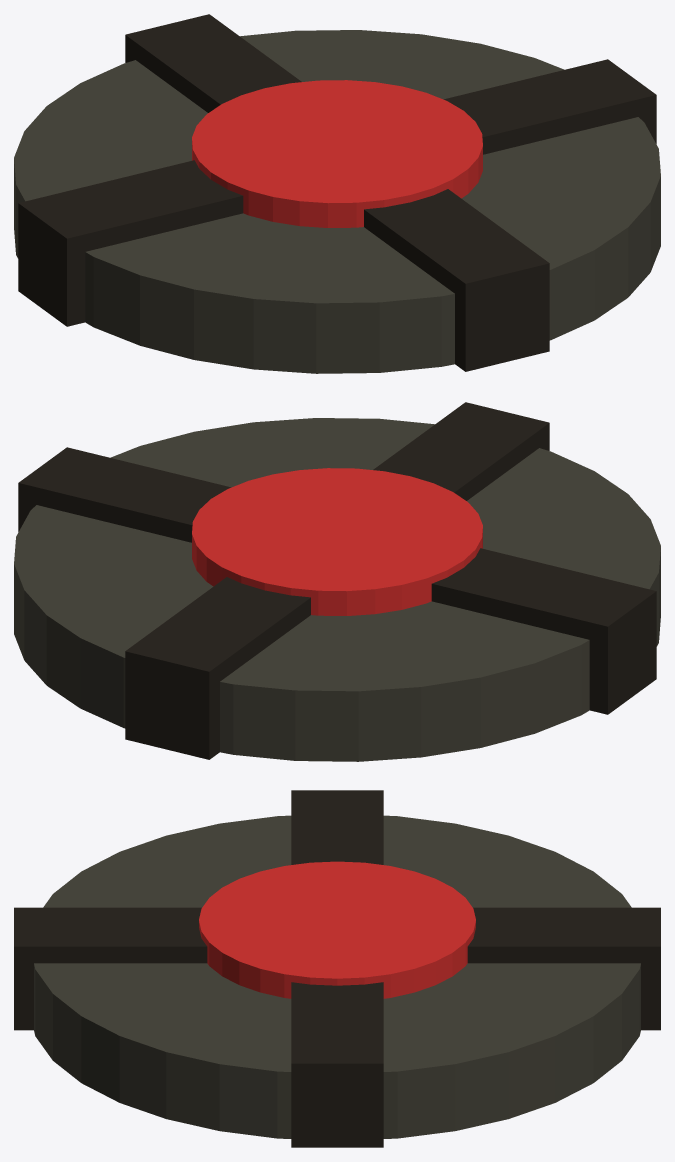
Rendered from LandMine.fbx.
3 views of the same model, one above another, from view 1: azimuth 30°, elevation 25°; view 2: azimuth 150°, elevation 25°; view 3: azimuth 270°, elevation 25° (orthographic). The views are drawn at different scales.
Visible parts, largest first — view 1: Cylinder, Cylinder.001, Cube.001, Cube; view 2: Cylinder, Cylinder.001, Cube.001, Cube; view 3: Cylinder, Cylinder.001, Cube, Cube.001.
Boxes of the visible parts, x1,y1,x2,y2 form: Cylinder: (14,30,660,373); Cylinder.001: (192,80,482,227); Cube.001: (18,59,656,326); Cube: (125,14,549,371); Cylinder: (14,418,660,761); Cylinder.001: (192,468,482,615); Cube.001: (18,447,656,714); Cube: (125,402,549,759); Cylinder: (34,815,640,1138); Cylinder.001: (199,861,475,998); Cube: (14,907,660,1030); Cube.001: (291,790,383,1147).
Size of the model in its own units: 210 by 32.5 by 210.
